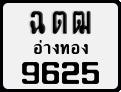letters: (72, 11, 91, 34), (41, 61, 60, 84), (61, 61, 80, 84), (81, 61, 100, 84), (22, 61, 40, 84), (30, 10, 46, 35), (52, 11, 68, 35)
province: (33, 39, 89, 55)
